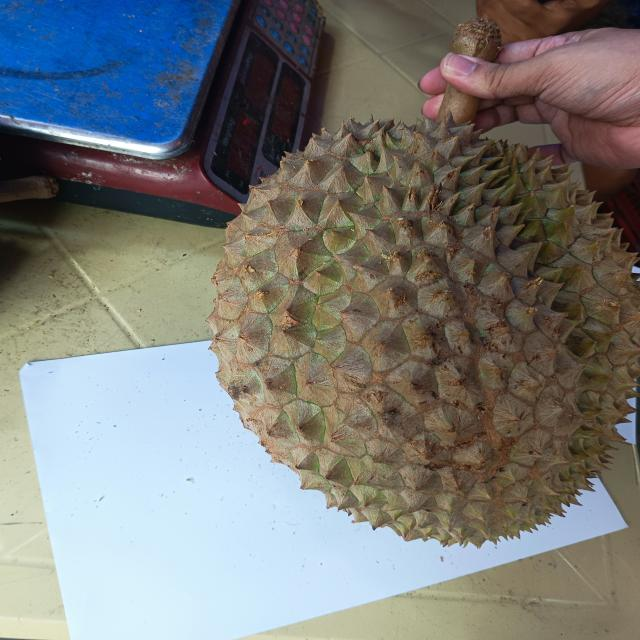mature: (200, 109, 633, 543)
